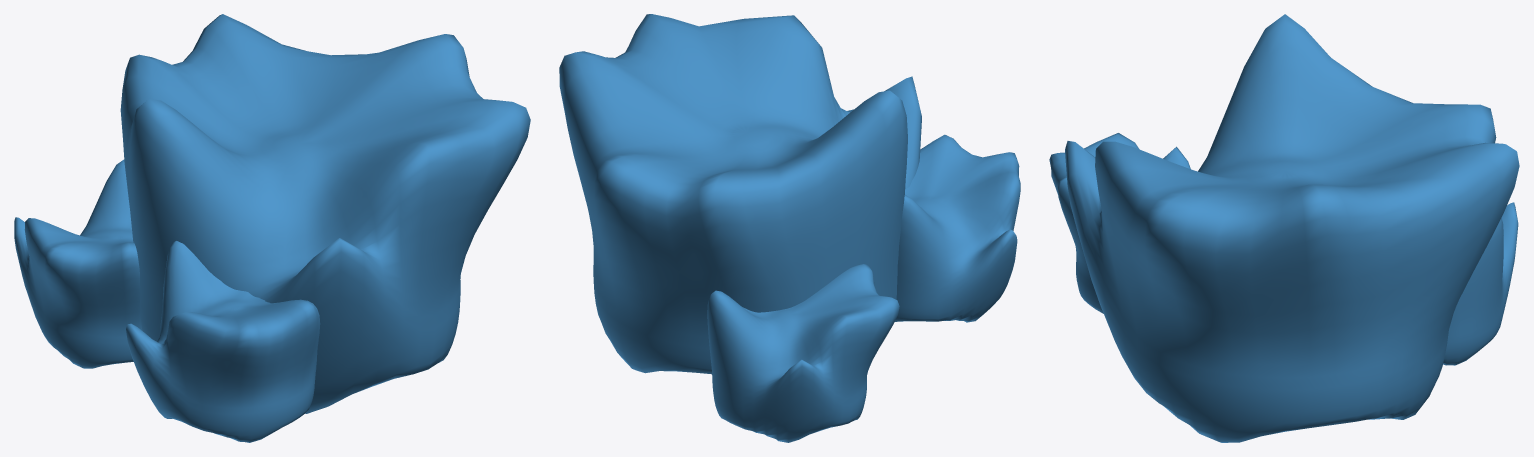
The model's file is AGRock3.fbx.
The picture shows the model from 3 angles, left to right: view 1: azimuth 30°, elevation 25°; view 2: azimuth 150°, elevation 25°; view 3: azimuth 270°, elevation 25°; orthographic projection. The views are drawn at different scales.
Visible parts, largest first — view 1: pSphere1, pSphere2, pSphere3; view 2: pSphere1, pSphere3, pSphere2; view 3: pSphere1, pSphere3, pSphere2.
Boxes of the visible parts, left/top/right/bottom form: pSphere1: left=120, top=14, right=530, bottom=413; pSphere2: left=126, top=241, right=320, bottom=442; pSphere3: left=14, top=159, right=142, bottom=368; pSphere1: left=559, top=14, right=921, bottom=374; pSphere3: left=707, top=264, right=899, bottom=442; pSphere2: left=895, top=134, right=1020, bottom=322; pSphere1: left=1065, top=14, right=1519, bottom=442; pSphere3: left=1443, top=202, right=1518, bottom=365; pSphere2: left=1049, top=133, right=1190, bottom=313.
Size of the model in its own units: 1.42 by 1.02 by 1.41.
